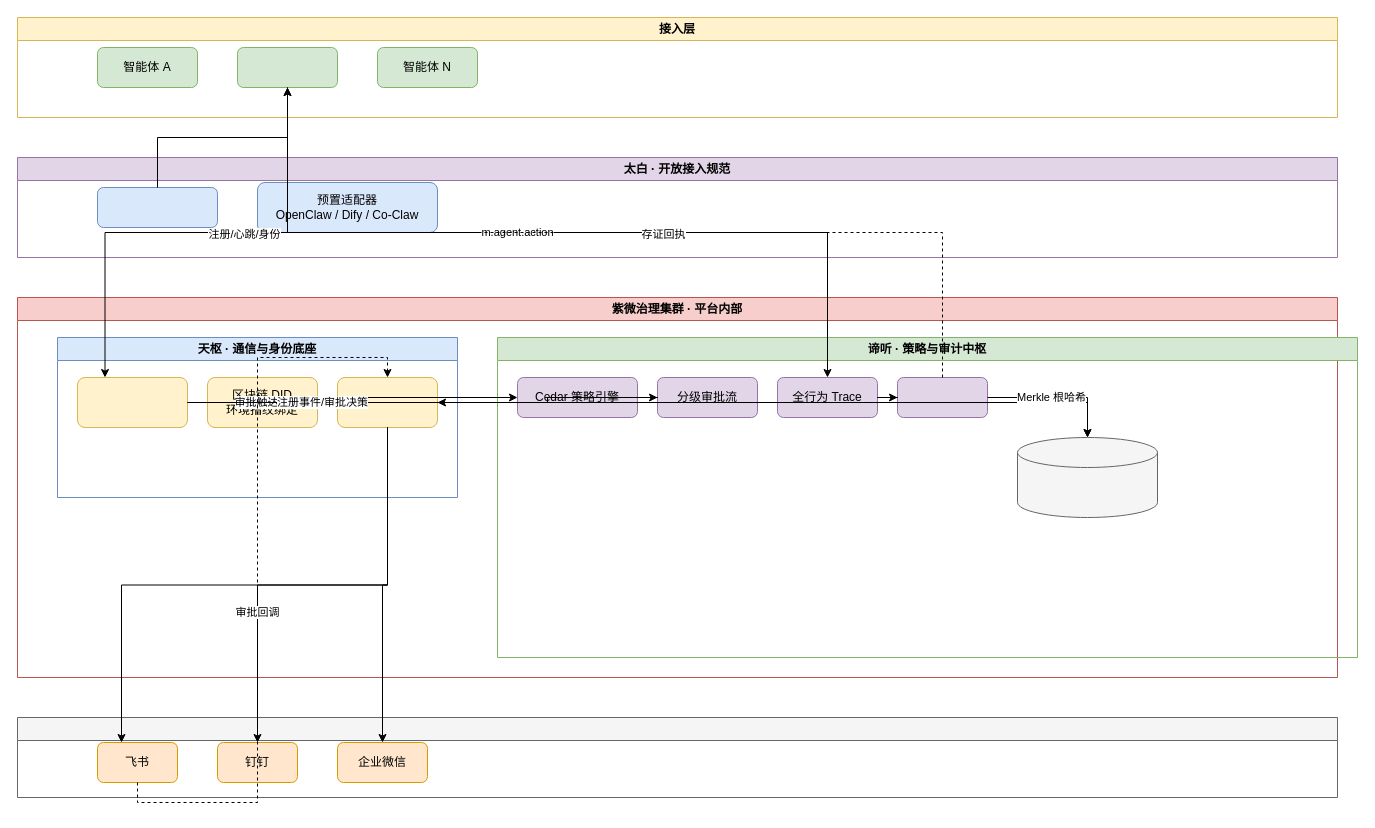
The diagram is 1375 pixels wide and 828 high, and some of its shapes have lost their labels. Here are the shapes that lost their labels. From the top down, the box of each, then its label:
(236, 46, 338, 88): 智能体 B
(96, 186, 218, 228): 多语言 SDK
(76, 376, 188, 428): Matrix 联邦协议 端到端加密
(336, 376, 438, 428): 企业 IM 适配器 飞书 / 钉钉 / 企微
(896, 376, 988, 418): 审计存证
(1016, 436, 1158, 518): 私有链 · 谛听管理 DID 注册 · 指纹上链
(16, 716, 1338, 798): 外部依赖
